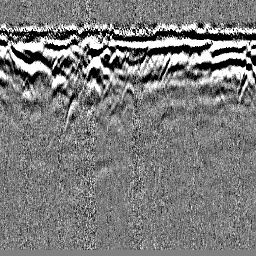cavity: (120, 81, 135, 104)
